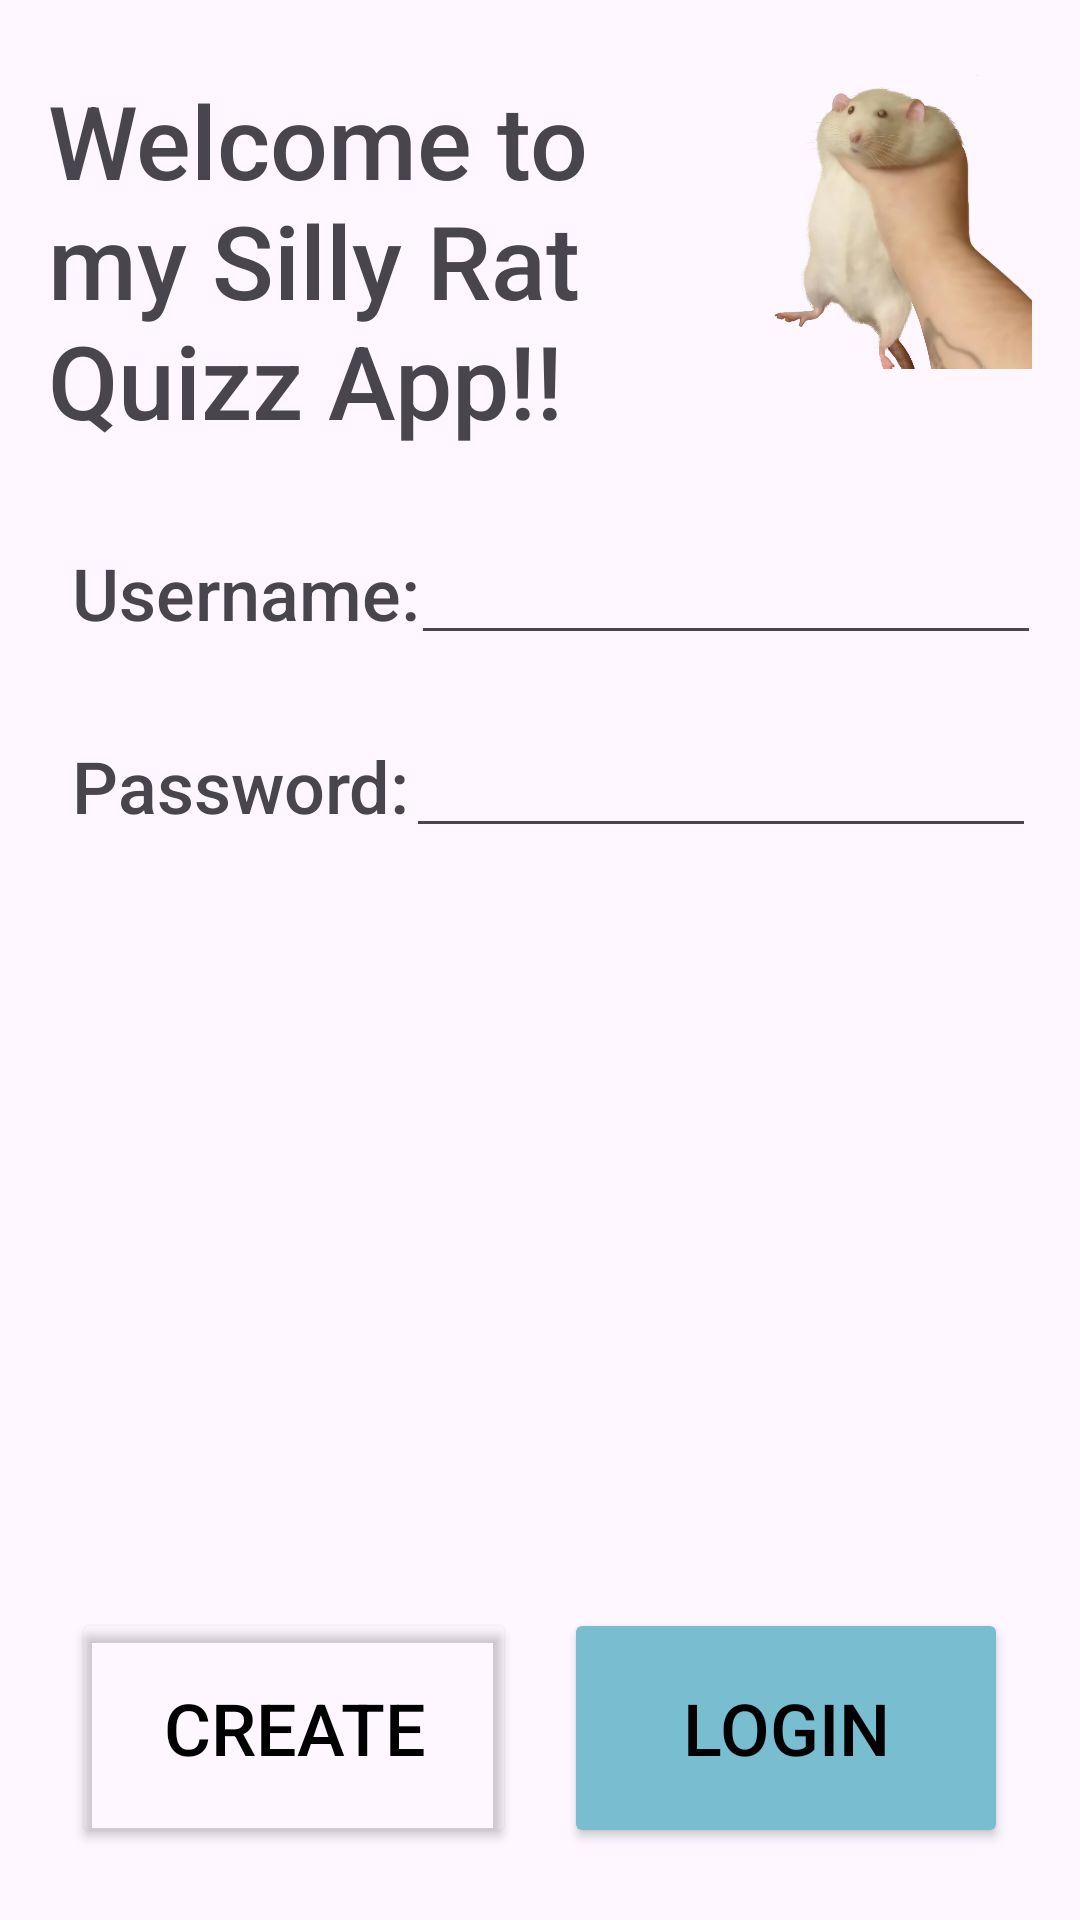

Locate icon controls on the screen. Image size 1080*1920, boxes as (x1, y1, x2, y2).
holding fat rat: (774, 75, 1032, 369)
